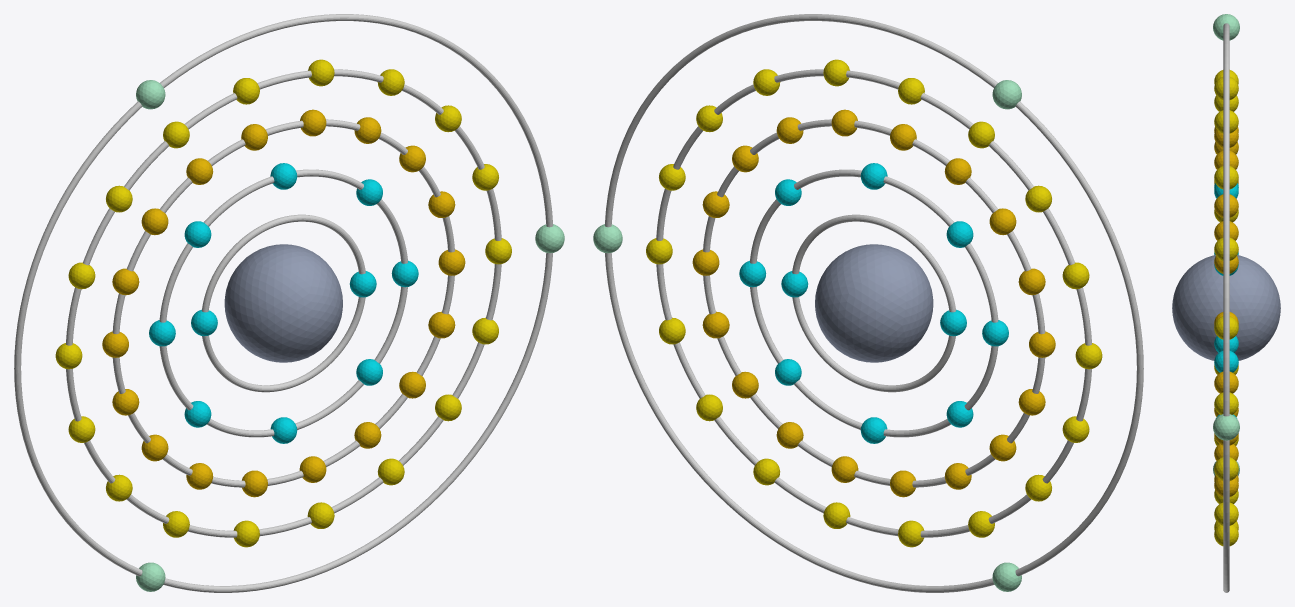
3 renders of one model, left to right at view 1: azimuth 30°, elevation 25°; view 2: azimuth 150°, elevation 25°; view 3: azimuth 270°, elevation 25°, orthographic. The views are drawn at different scales.
Visible parts, largest first — view 1: Camada_5, Nucleo_In, Camada_4, Camada_3, Camada_2, Camada_1; view 2: Camada_5, Nucleo_In, Camada_4, Camada_3, Camada_2, Camada_1; view 3: Nucleo_In, Camada_5, e5_1, e5_2, e4_5, e3_4, e4_2, e4_3, e4_4, e4_6, e4_17, e4_18 (+13 smaller).
Boxes of the visible parts, x1=… form: Camada_5: x1=14, y1=14, x2=553, y2=592; Nucleo_In: x1=224, y1=244, x2=342, y2=362; Camada_4: x1=66, y1=69, x2=501, y2=537; Camada_3: x1=112, y1=119, x2=454, y2=487; Camada_2: x1=159, y1=169, x2=407, y2=437; Camada_1: x1=201, y1=214, x2=365, y2=392; Camada_5: x1=604, y1=14, x2=1143, y2=592; Nucleo_In: x1=815, y1=244, x2=933, y2=362; Camada_4: x1=656, y1=69, x2=1091, y2=537; Camada_3: x1=703, y1=119, x2=1045, y2=487; Camada_2: x1=750, y1=169, x2=998, y2=437; Camada_1: x1=792, y1=214, x2=956, y2=392; Nucleo_In: x1=1172, y1=255, x2=1280, y2=360; Camada_5: x1=1223, y1=23, x2=1229, y2=592; e5_1: x1=1213, y1=414, x2=1239, y2=440; e5_2: x1=1213, y1=14, x2=1239, y2=40; e4_5: x1=1214, y1=110, x2=1238, y2=133; e3_4: x1=1214, y1=194, x2=1238, y2=217; e4_2: x1=1214, y1=316, x2=1238, y2=339; e4_3: x1=1214, y1=237, x2=1238, y2=260; e4_4: x1=1214, y1=166, x2=1238, y2=189; e4_6: x1=1214, y1=77, x2=1238, y2=99; e4_17: x1=1214, y1=502, x2=1238, y2=525; e4_18: x1=1214, y1=457, x2=1238, y2=480.
Bounding box in the file's own units: 2.35 × 2.31 × 0.44.
